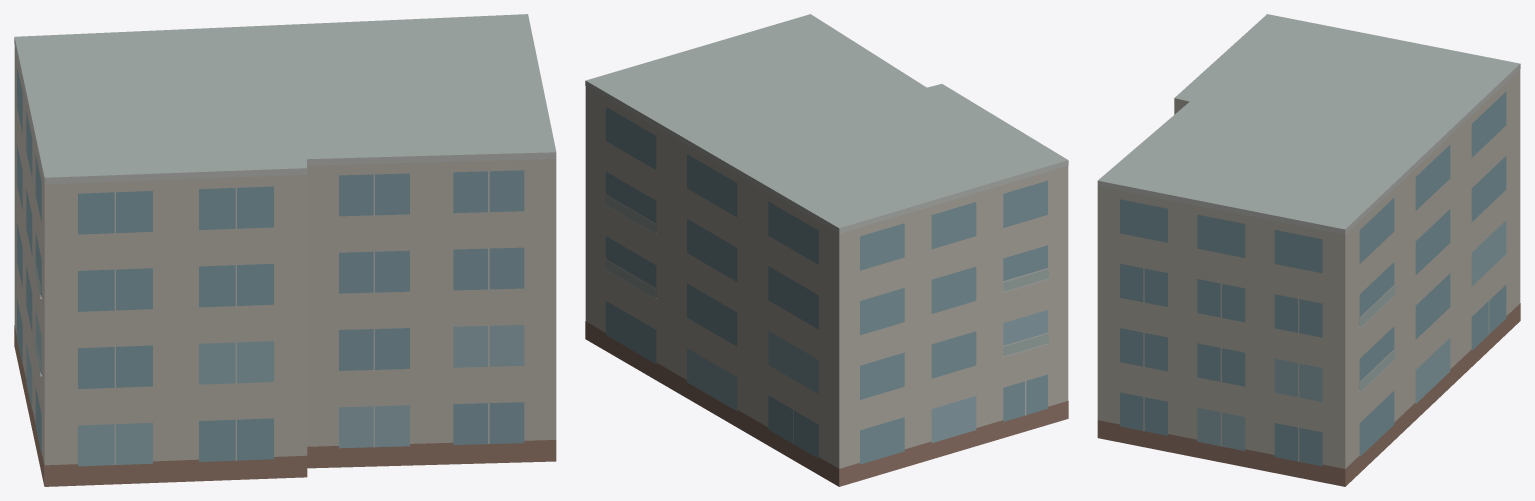
File: survey-upis-32847164.glb
3 views of the same model, side by side, from view 1: azimuth 30°, elevation 25°; view 2: azimuth 150°, elevation 25°; view 3: azimuth 270°, elevation 25° (orthographic). The views are drawn at different scales.
Parts seen in each view (by area): view 1: survey-upis-32847164.tmp; view 2: survey-upis-32847164.tmp; view 3: survey-upis-32847164.tmp.
Part boxes in pixels (x1,y1,x2,y2): survey-upis-32847164.tmp: (14, 14, 556, 486); survey-upis-32847164.tmp: (585, 14, 1068, 486); survey-upis-32847164.tmp: (1097, 14, 1520, 486).
Size of the model in its own units: 20.66 by 11.5 by 17.13.
